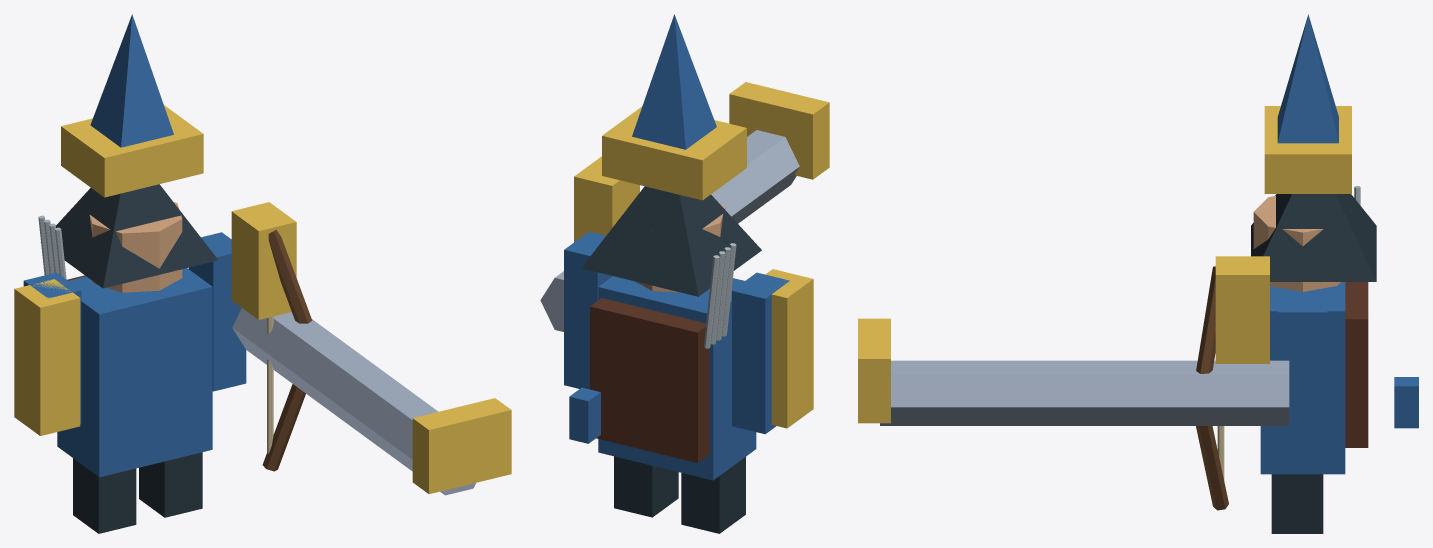
File: gunner.obj
3 renders of one model, left to right at view 1: azimuth 30°, elevation 25°; view 2: azimuth 150°, elevation 25°; view 3: azimuth 270°, elevation 25°, orthographic.
Parts seen in each view (by area): view 1: ranged; view 2: ranged; view 3: ranged.
Boxes of the visible parts, <box> form: ranged: <box>14,14,511,533</box>; ranged: <box>540,14,829,533</box>; ranged: <box>858,14,1418,533</box>.
Size of the model in its own units: 1.14 by 2 by 2.06.
